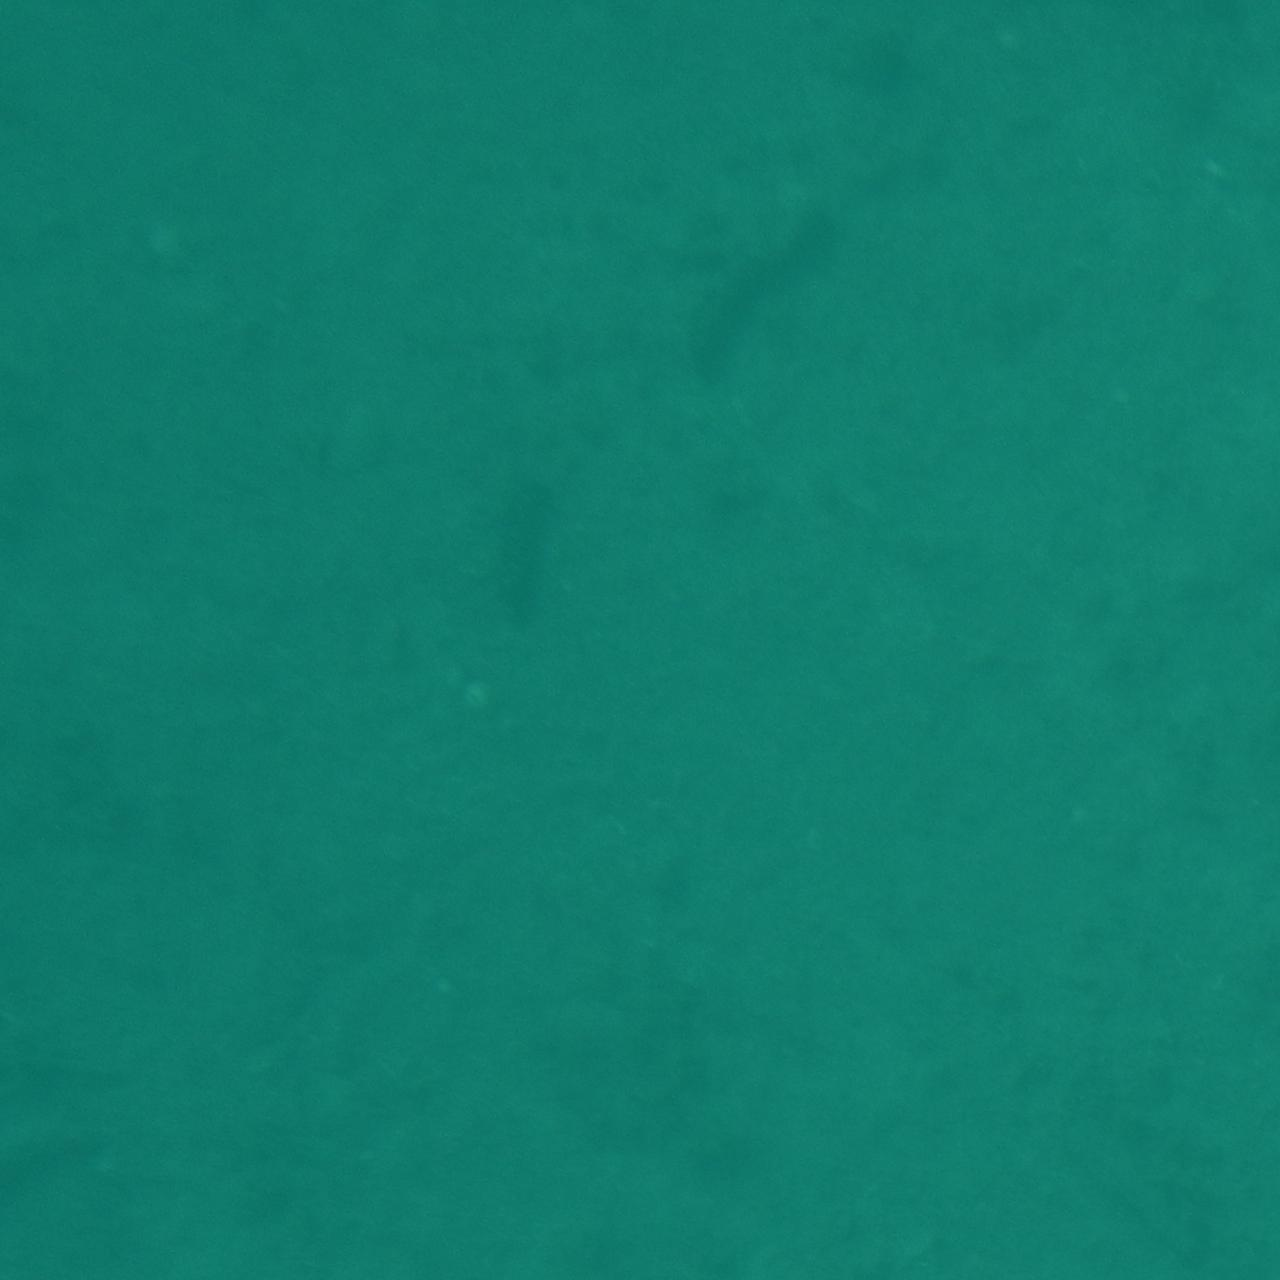Holothuria tubulosa: (672, 176, 860, 408), (454, 469, 576, 638)
